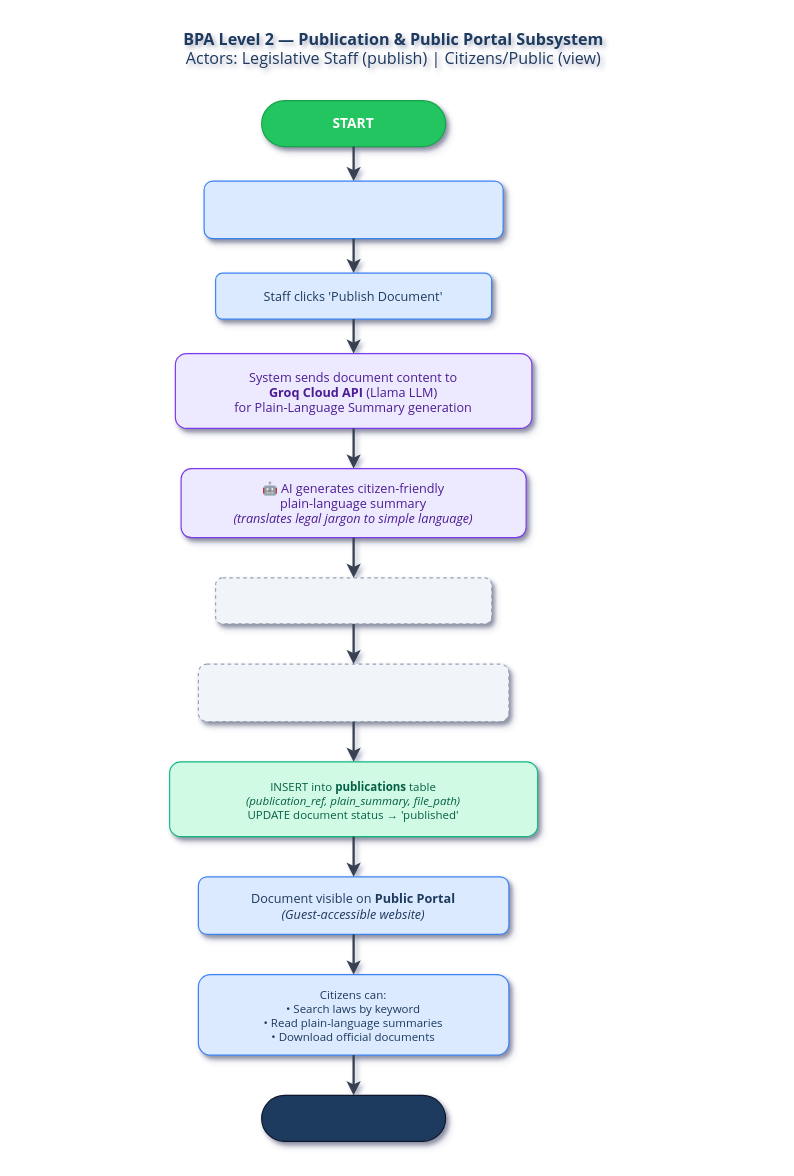
This 794x1176 diagram has some shape labels left out. Here are the shapes that lost their labels. From the top down, the centre of each, then its label:
[354,211]: Document status = 'approved' or 'enacted'
[354,602]: Staff reviews & edits summary
[354,694]: Enter Publication Reference No. Upload official publication file
[354,1119]: END
